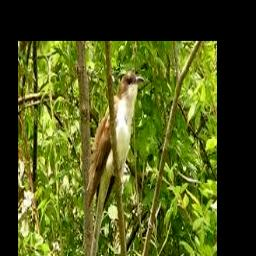Cuckoo: (86, 70, 145, 256)
